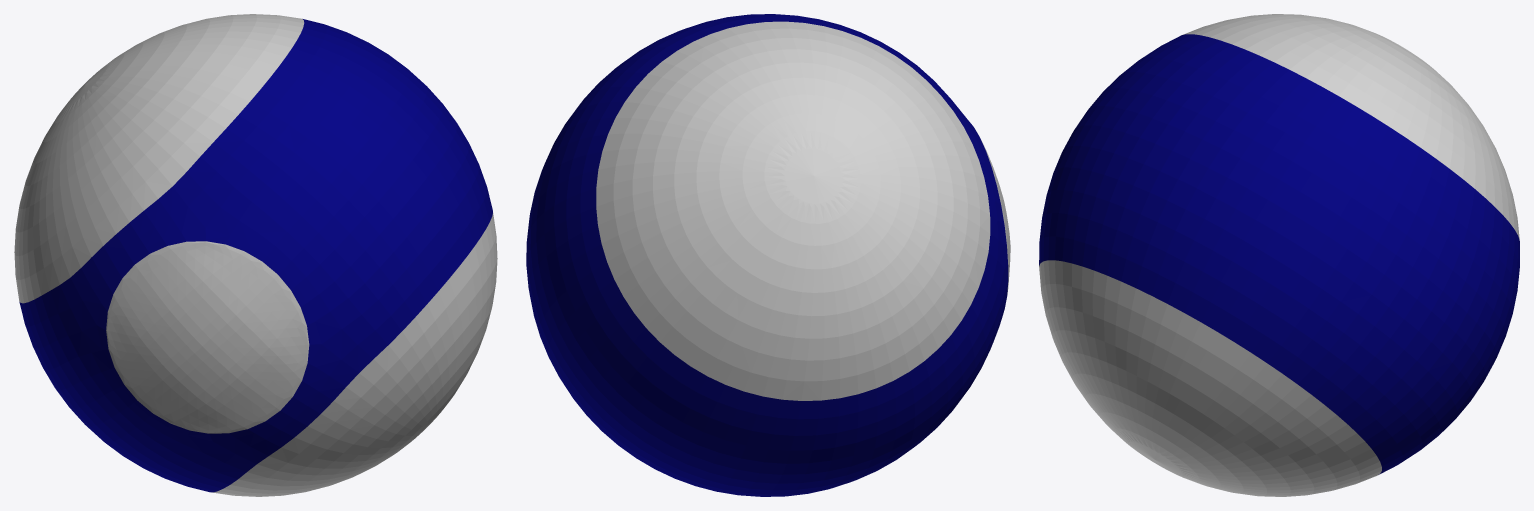
File: 10_ball.obj
3 renders of one model, left to right at view 1: azimuth 30°, elevation 25°; view 2: azimuth 150°, elevation 25°; view 3: azimuth 270°, elevation 25°, orthographic.
Visible parts, largest first — view 1: Stripe.006; view 2: Stripe.006; view 3: Stripe.006.
Boxes of the visible parts, x1,y1,x2,y2 form: Stripe.006: (14, 14, 497, 496); Stripe.006: (526, 14, 1010, 496); Stripe.006: (1039, 14, 1519, 496).
Bounding box in the file's own units: 0.0786 × 0.0788 × 0.0785.
